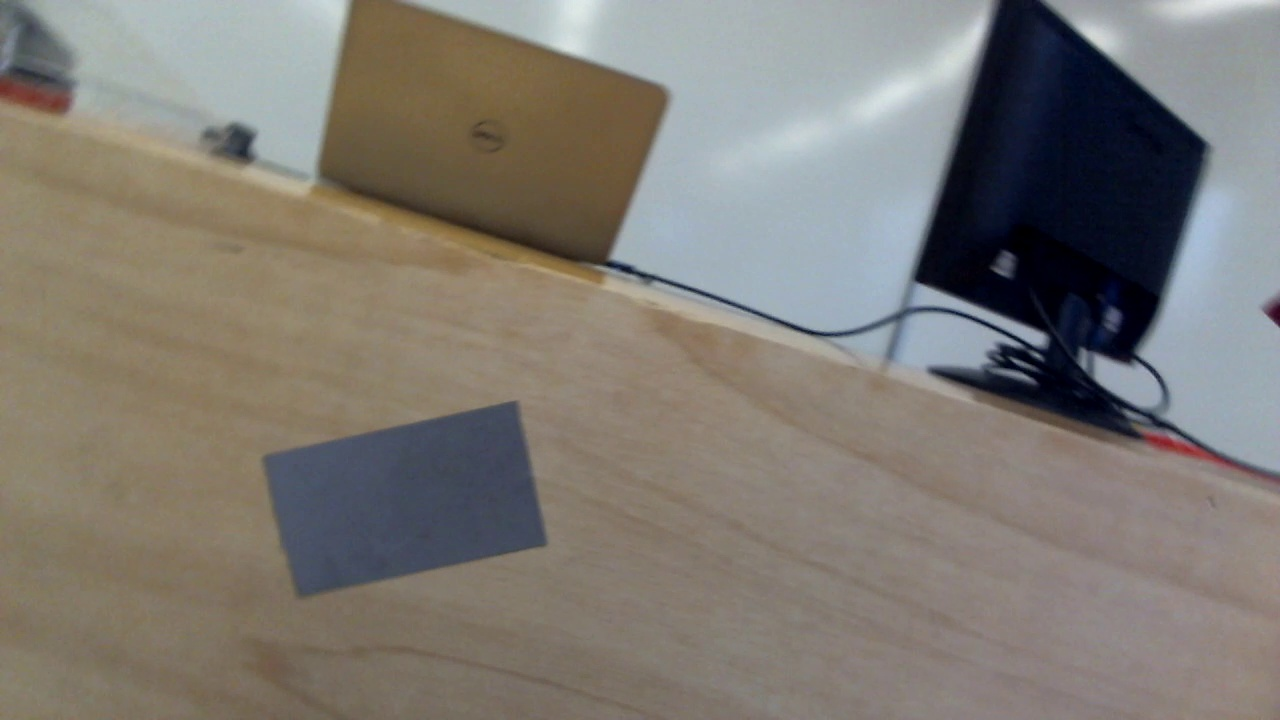Tape: (261, 401, 551, 601)
